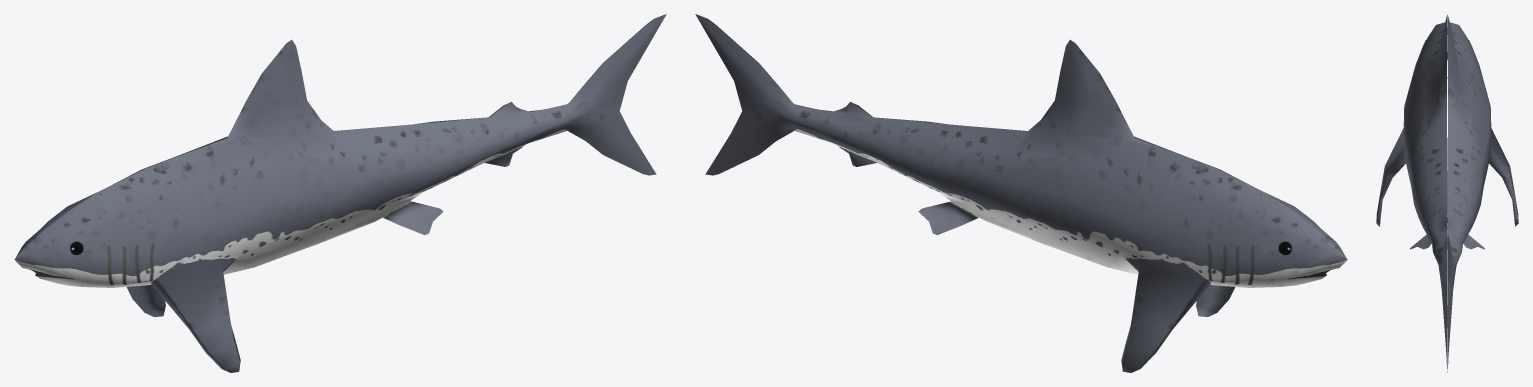
File: salmonShark00.fbx
3 renders of one model, left to right at view 1: azimuth 30°, elevation 25°; view 2: azimuth 150°, elevation 25°; view 3: azimuth 270°, elevation 25°, orthographic. The views are drawn at different scales.
Visible parts, largest first — view 1: SalmonShark_final; view 2: SalmonShark_final; view 3: SalmonShark_final.
Part boxes in pixels (x1,y1,x2,y2): SalmonShark_final: (14,14,666,372); SalmonShark_final: (695,14,1347,372); SalmonShark_final: (1376,14,1518,372).
Size of the model in its own units: 11.91 by 4.93 by 2.52.
1 material, 1 textured.
